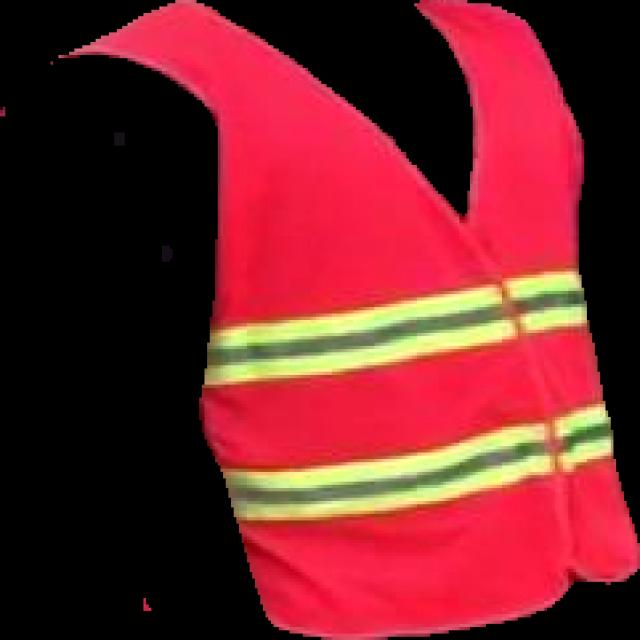Colete: (59, 0, 639, 639)
